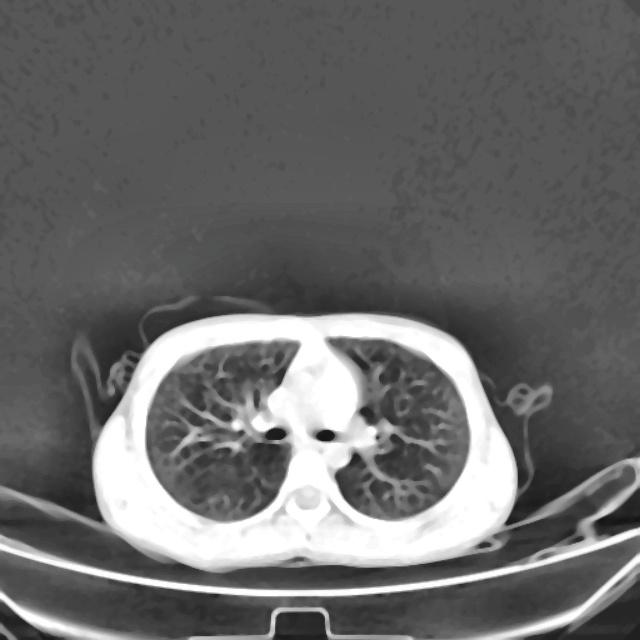covid: (83, 305, 521, 573)
